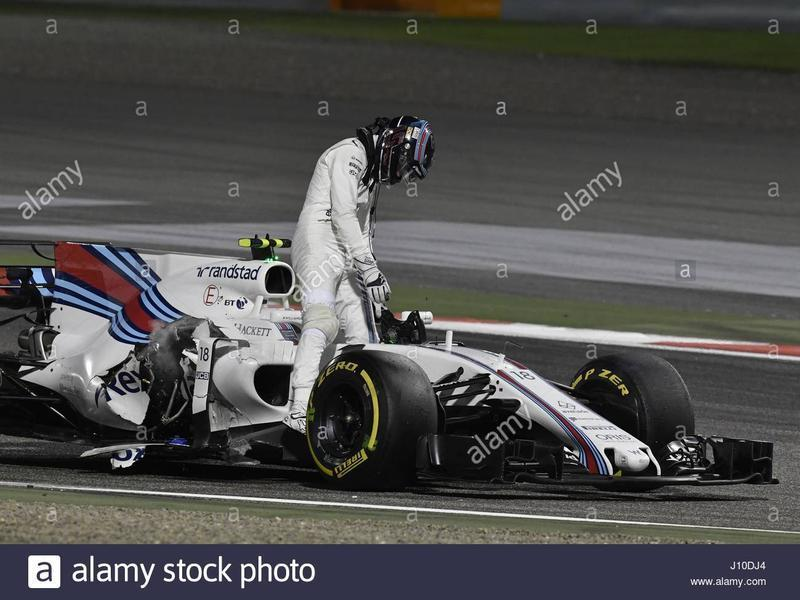f1: (8, 218, 798, 518)
